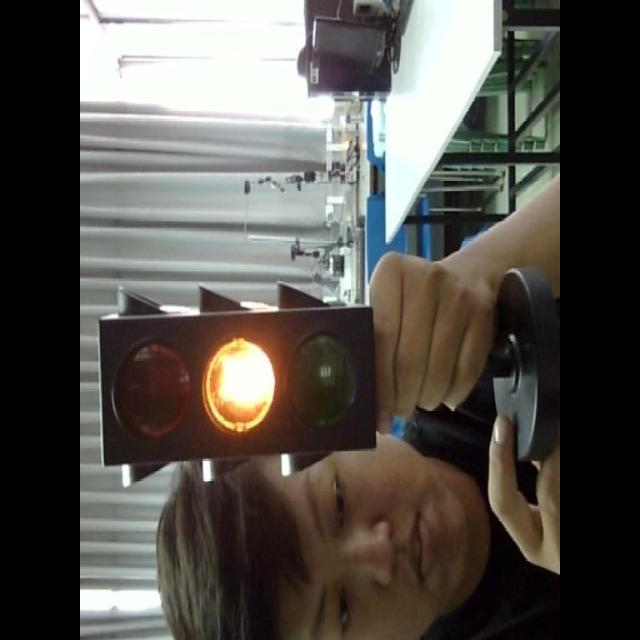yellow_light: (97, 304, 373, 463)
